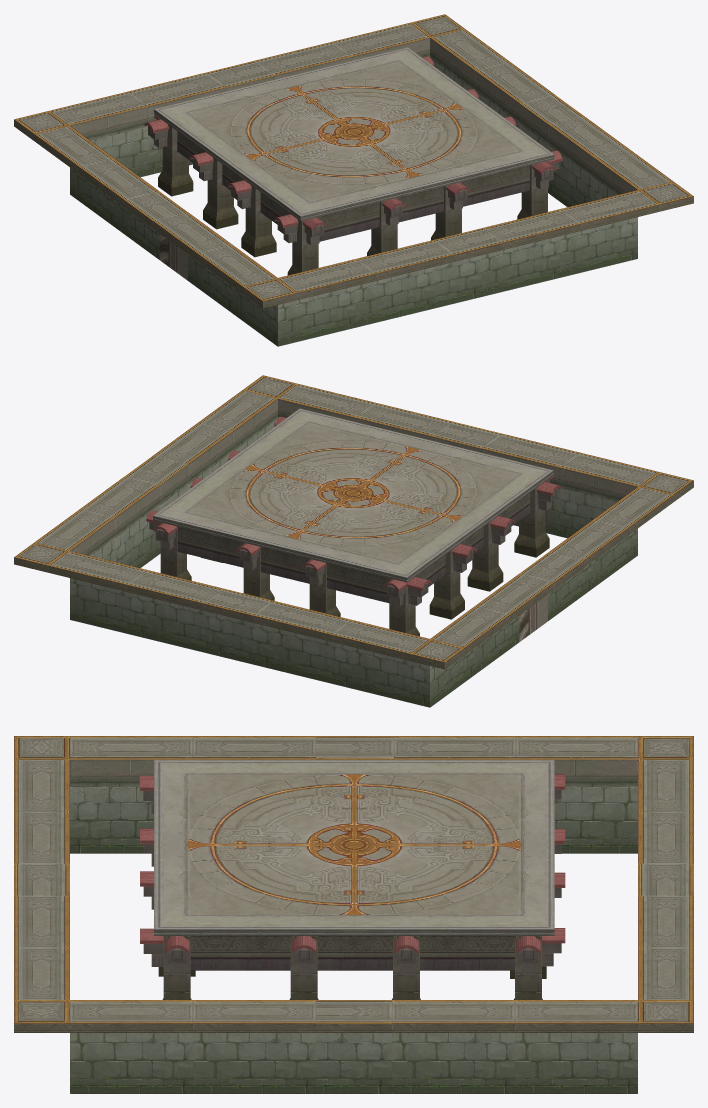
File: cj_luoyang_leitai01_53_57_6368out.fbx
3 views of the same model, one above another, from view 1: azimuth 30°, elevation 25°; view 2: azimuth 150°, elevation 25°; view 3: azimuth 270°, elevation 25° (orthographic). The views are drawn at different scales.
Visible parts, largest first — view 1: 0000_cj_luoyang_leitai01, 0001_cj_luoyang_leitai01; view 2: 0000_cj_luoyang_leitai01, 0001_cj_luoyang_leitai01; view 3: 0000_cj_luoyang_leitai01, 0001_cj_luoyang_leitai01.
Boxes of the visible parts, box(x1,y1,x2,y2) form: 0000_cj_luoyang_leitai01: box(14, 14, 693, 346); 0001_cj_luoyang_leitai01: box(144, 47, 562, 275); 0000_cj_luoyang_leitai01: box(14, 375, 693, 707); 0001_cj_luoyang_leitai01: box(146, 408, 561, 636); 0000_cj_luoyang_leitai01: box(14, 736, 693, 1093); 0001_cj_luoyang_leitai01: box(139, 759, 565, 999).
Size of the model in its own units: 15.59 by 3.27 by 15.59.
